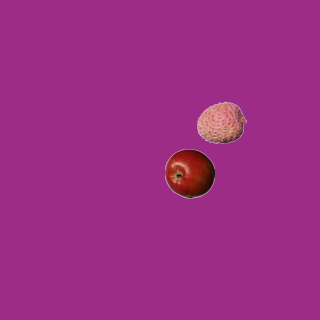Apple Braeburn: (164, 148, 214, 198)
Lychee: (196, 97, 246, 147)
